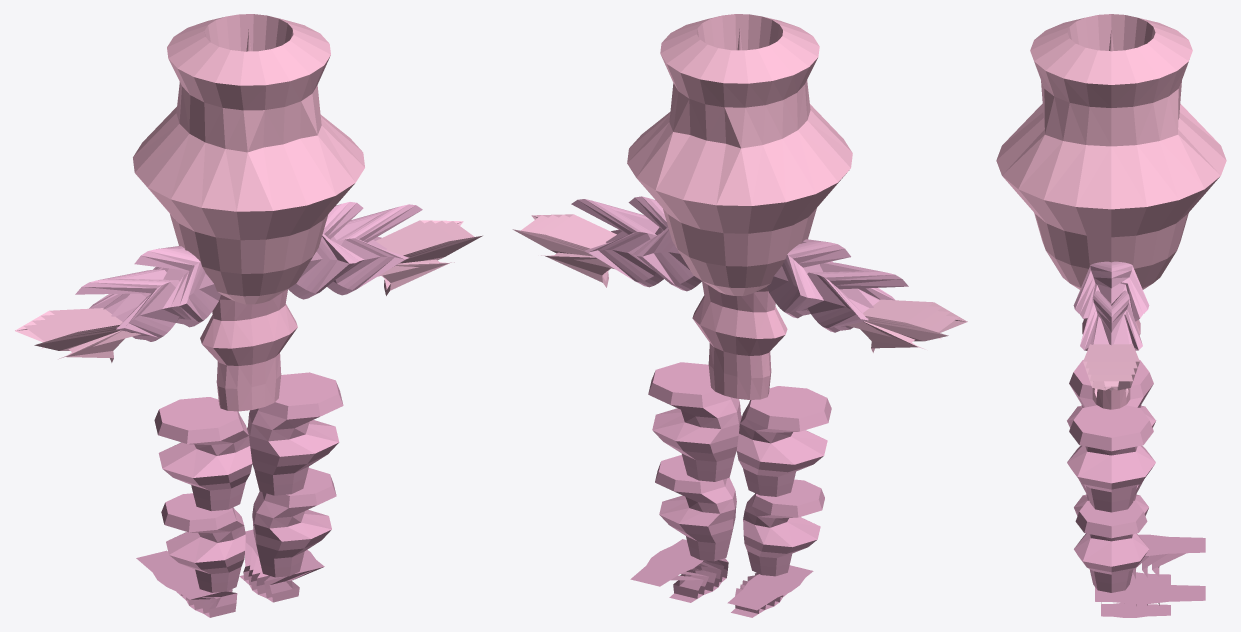
File: 3b9049fe-3b97-4f98-a58e-d5d81d8f6ccb.glb
3 views of the same model, side by side, from view 1: azimuth 30°, elevation 25°; view 2: azimuth 150°, elevation 25°; view 3: azimuth 270°, elevation 25° (orthographic). The views are drawn at different scales.
Parts seen in each view (by area): view 1: Head, Leg_L_Upper, Leg_R_Upper, Torso, Leg_R_Lower, Leg_L_Lower, Arm_L_Lower, Hand_L, Hand_R, Arm_R_Lower, Arm_L_Upper, Arm_R_Upper (+2 smaller); view 2: Head, Leg_L_Upper, Leg_R_Upper, Torso, Leg_R_Lower, Leg_L_Lower, Arm_L_Lower, Hand_L, Hand_R, Arm_R_Lower, Arm_L_Upper, Foot_R (+2 smaller); view 3: Head, Leg_R_Upper, Leg_R_Lower, Foot_R, Arm_R_Upper, Arm_R_Lower, Hand_R, Foot_L, Leg_L_Upper, Torso, Leg_L_Lower.
Part boxes in pixels (x1,y1,x2,y2): Head: [133, 14, 364, 304]; Leg_L_Upper: [154, 397, 252, 511]; Leg_R_Upper: [247, 372, 343, 495]; Torso: [200, 289, 297, 411]; Leg_R_Lower: [252, 468, 336, 577]; Leg_L_Lower: [161, 493, 245, 592]; Arm_L_Lower: [75, 269, 179, 341]; Hand_L: [15, 308, 140, 362]; Hand_R: [375, 220, 482, 295]; Arm_R_Lower: [327, 204, 422, 295]; Arm_L_Upper: [134, 246, 220, 327]; Arm_R_Upper: [288, 202, 363, 299]; Head: [627, 14, 852, 295]; Leg_L_Upper: [736, 386, 831, 496]; Leg_R_Upper: [648, 362, 741, 481]; Torso: [692, 281, 787, 399]; Leg_R_Lower: [655, 455, 736, 561]; Leg_L_Lower: [743, 479, 824, 576]; Arm_L_Lower: [807, 262, 908, 332]; Hand_L: [846, 299, 967, 352]; Hand_R: [512, 214, 616, 287]; Arm_R_Lower: [571, 199, 663, 287]; Arm_L_Upper: [767, 239, 850, 318]; Foot_R: [630, 539, 728, 602]; Head: [996, 14, 1226, 289]; Leg_R_Upper: [1067, 405, 1155, 512]; Leg_R_Lower: [1074, 500, 1148, 592]; Foot_R: [1095, 582, 1205, 617]; Arm_R_Upper: [1073, 261, 1149, 321]; Arm_R_Lower: [1080, 290, 1142, 350]; Hand_R: [1083, 343, 1139, 397]; Foot_L: [1130, 534, 1205, 584]; Leg_L_Upper: [1067, 360, 1155, 427]; Torso: [1082, 320, 1140, 409]; Leg_L_Lower: [1074, 480, 1148, 515].
Bounding box in the file's own units: 0.5791 × 0.7085 × 0.2606.
